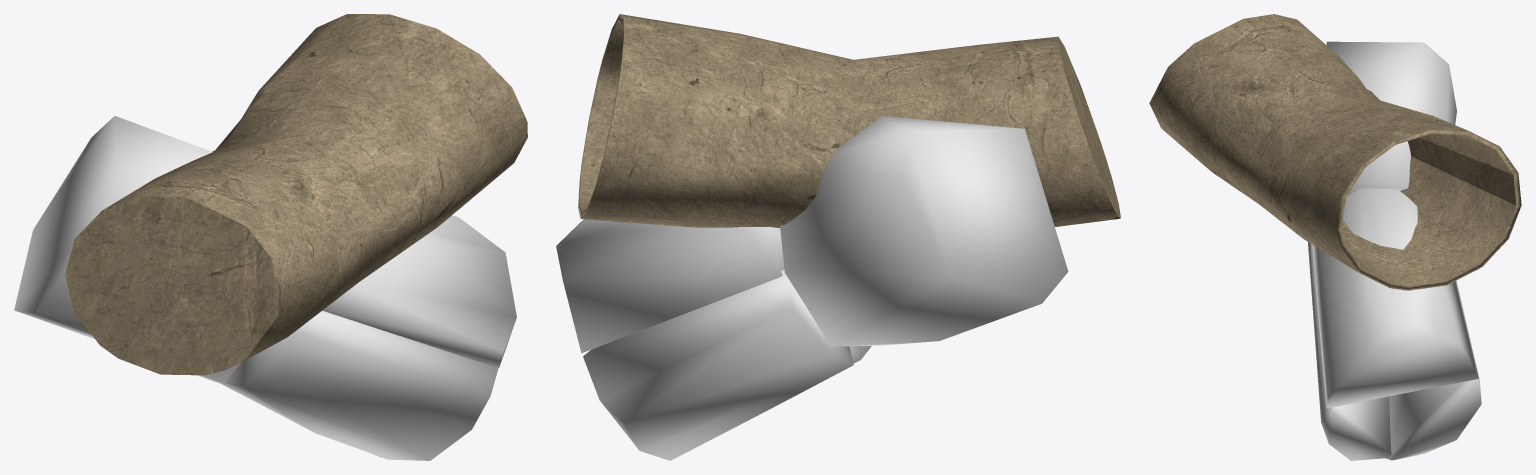
Rendered from SM_Cup.fbx.
The picture shows the model from 3 angles, left to right: view 1: azimuth 30°, elevation 25°; view 2: azimuth 150°, elevation 25°; view 3: azimuth 270°, elevation 25°; orthographic projection. The views are drawn at different scales.
Parts seen in each view (by area): view 1: SM_Cup, SM_Cup_ConvexHulls; view 2: SM_Cup_ConvexHulls, SM_Cup; view 3: SM_Cup, SM_Cup_ConvexHulls.
Boxes of the visible parts, x1,y1,x2,y2 form: SM_Cup: [65, 14, 527, 375]; SM_Cup_ConvexHulls: [14, 116, 516, 460]; SM_Cup_ConvexHulls: [556, 116, 1068, 460]; SM_Cup: [578, 14, 1120, 228]; SM_Cup: [1149, 14, 1521, 290]; SM_Cup_ConvexHulls: [1308, 41, 1481, 460].
Size of the model in its own units: 0.2511 by 0.2078 by 0.204.
